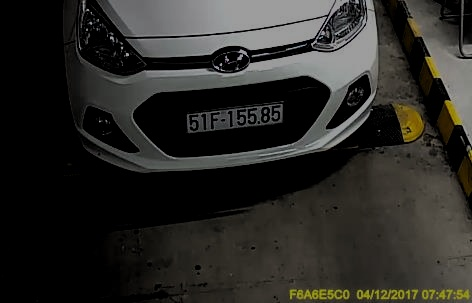plate: (183, 101, 288, 134)
